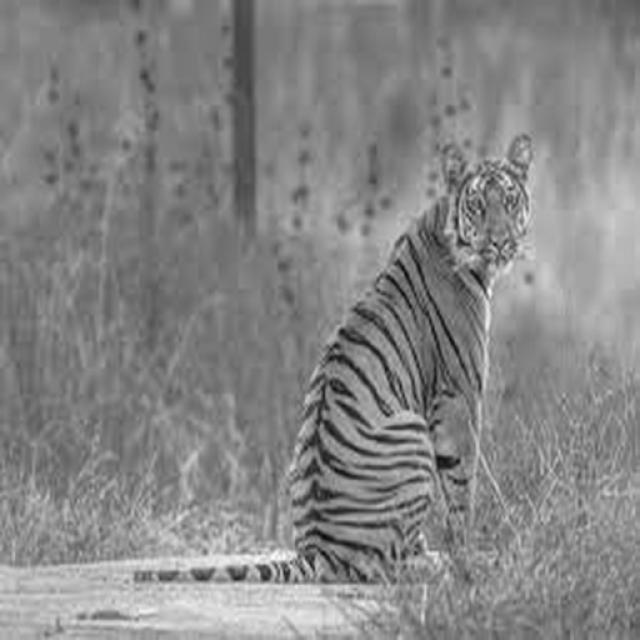Tiger: (301, 76, 541, 562)
